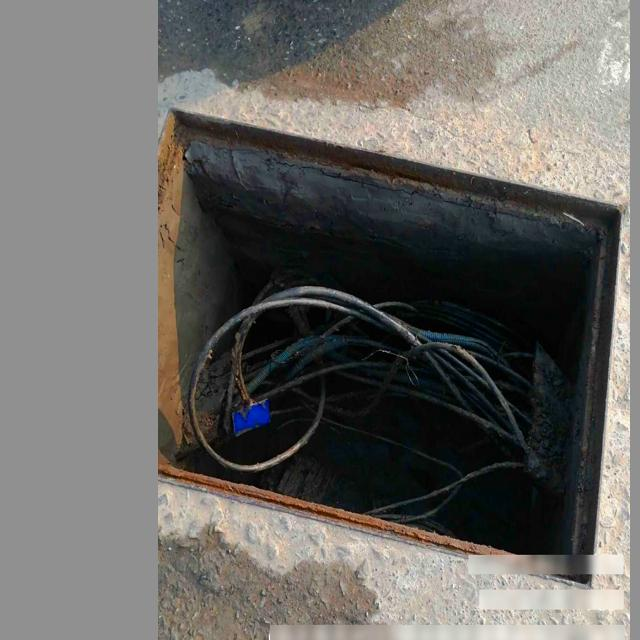lose: (159, 114, 624, 508)
